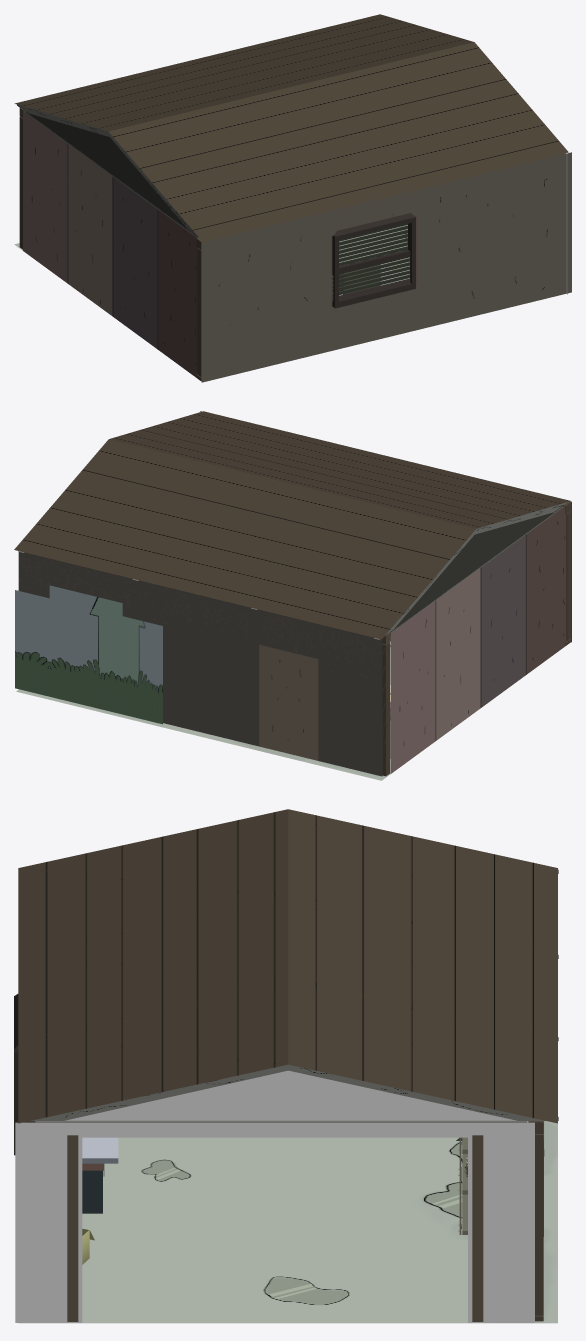
File: Garage2.fbx
The picture shows the model from 3 angles, top to bottom: view 1: azimuth 30°, elevation 25°; view 2: azimuth 150°, elevation 25°; view 3: azimuth 270°, elevation 25°; orthographic projection. The views are drawn at different scales.
Visible parts, largest first — view 1: Ceiling, Wall, Wood.001, Floor, Wood; view 2: Ceiling, Wall, Background, Floor, Wood, Wood.001; view 3: Ceiling, Floor, Wall, Wood.001, Interior, Wood.
Boxes of the visible parts, x1=… form: Ceiling: x1=14, y1=14, x2=568, y2=241; Wall: x1=23, y1=111, x2=571, y2=382; Wood.001: x1=196, y1=153, x2=563, y2=381; Floor: x1=14, y1=225, x2=409, y2=279; Wood: x1=19, y1=107, x2=26, y2=249; Ceiling: x1=14, y1=411, x2=570, y2=639; Wall: x1=18, y1=411, x2=571, y2=776; Background: x1=15, y1=585, x2=162, y2=724; Floor: x1=16, y1=641, x2=390, y2=780; Wood: x1=25, y1=552, x2=391, y2=776; Wood.001: x1=563, y1=501, x2=571, y2=645; Ceiling: x1=18, y1=809, x2=558, y2=1123; Floor: x1=18, y1=1121, x2=557, y2=1323; Wall: x1=15, y1=1121, x2=544, y2=1322; Wood.001: x1=14, y1=994, x2=483, y2=1321; Interior: x1=35, y1=1121, x2=467, y2=1264; Wood: x1=528, y1=1121, x2=543, y2=1321.
Bounding box in the file's own units: 940 × 442 × 859.
